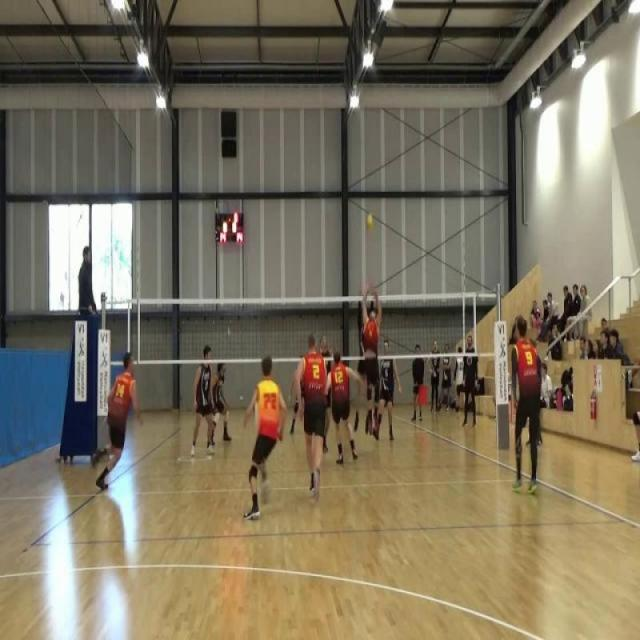volleyball: (364, 211, 376, 236)
